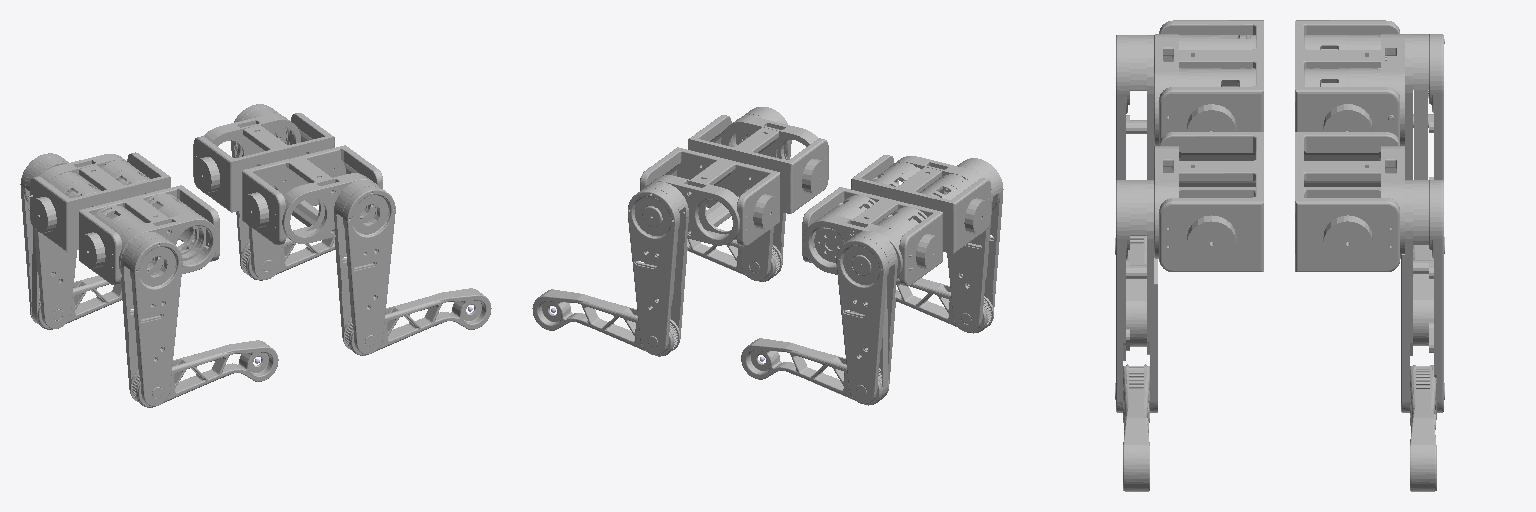
--- What the picture shows (computed from the rendered views, not written in the file) ---
Views: 3 orthographic renders of the robot side by side, from view 1: azimuth 30°, elevation 25°; view 2: azimuth 150°, elevation 25°; view 3: azimuth 270°, elevation 25°.
Model HotDog with 25 links and 24 joints (24 revolute), rooted at BODY_LINK, posed every joint at zero.
Visible links, largest first — view 1: RF_JIAN_LINK, RB_JIAN_LINK, RB_THIGH_LINK, RF_THIGH_LINK, LB_JIAN_LINK, LF_JIAN_LINK, LB_THIGH_LINK, RB_SHANK_LINK, RF_SHANK_LINK, LF_THIGH_LINK, LB_SHANK_LINK, LF_SHANK_LINK; view 2: LF_JIAN_LINK, LB_THIGH_LINK, LB_JIAN_LINK, LF_THIGH_LINK, RB_JIAN_LINK, RF_JIAN_LINK, RB_THIGH_LINK, LF_SHANK_LINK, LB_SHANK_LINK, RF_THIGH_LINK, RB_SHANK_LINK, RF_SHANK_LINK; view 3: RF_JIAN_LINK, LF_JIAN_LINK, RB_JIAN_LINK, LB_JIAN_LINK, LF_THIGH_LINK, RF_THIGH_LINK, LB_THIGH_LINK, RB_THIGH_LINK, RF_SHANK_LINK, LF_SHANK_LINK, RB_SHANK_LINK, LB_SHANK_LINK.
Boxes of the visible links, left/top/right/bottom form: RF_JIAN_LINK: left=242, top=145, right=382, bottom=244; RB_JIAN_LINK: left=79, top=185, right=219, bottom=284; RB_THIGH_LINK: left=121, top=232, right=182, bottom=406; RF_THIGH_LINK: left=334, top=180, right=395, bottom=354; LB_JIAN_LINK: left=28, top=152, right=170, bottom=252; LF_JIAN_LINK: left=193, top=113, right=334, bottom=212; LB_THIGH_LINK: left=20, top=153, right=96, bottom=328; RB_SHANK_LINK: left=129, top=340, right=278, bottom=407; RF_SHANK_LINK: left=342, top=288, right=491, bottom=355; LF_THIGH_LINK: left=231, top=104, right=286, bottom=279; LB_SHANK_LINK: left=30, top=275, right=121, bottom=329; LF_SHANK_LINK: left=240, top=227, right=334, bottom=280; LF_JIAN_LINK: left=640, top=147, right=779, bottom=246; LB_THIGH_LINK: left=813, top=231, right=897, bottom=403; LB_JIAN_LINK: left=802, top=187, right=942, bottom=286; LF_THIGH_LINK: left=628, top=182, right=688, bottom=354; RB_JIAN_LINK: left=851, top=155, right=990, bottom=253; RF_JIAN_LINK: left=688, top=115, right=828, bottom=213; RB_THIGH_LINK: left=947, top=158, right=1003, bottom=332; LF_SHANK_LINK: left=532, top=289, right=680, bottom=356; LB_SHANK_LINK: left=741, top=338, right=888, bottom=405; RF_THIGH_LINK: left=736, top=107, right=791, bottom=280; RB_SHANK_LINK: left=895, top=278, right=993, bottom=333; RF_SHANK_LINK: left=687, top=229, right=782, bottom=281; RF_JIAN_LINK: left=1154, top=132, right=1263, bottom=271; LF_JIAN_LINK: left=1295, top=132, right=1404, bottom=271; RB_JIAN_LINK: left=1154, top=20, right=1263, bottom=145; LB_JIAN_LINK: left=1295, top=20, right=1404, bottom=145; LF_THIGH_LINK: left=1401, top=180, right=1444, bottom=412; RF_THIGH_LINK: left=1115, top=180, right=1157, bottom=412; LB_THIGH_LINK: left=1405, top=34, right=1444, bottom=253; RB_THIGH_LINK: left=1115, top=35, right=1153, bottom=254; RF_SHANK_LINK: left=1123, top=364, right=1149, bottom=491; LF_SHANK_LINK: left=1410, top=365, right=1436, bottom=491; RB_SHANK_LINK: left=1126, top=236, right=1146, bottom=346; LB_SHANK_LINK: left=1413, top=245, right=1433, bottom=345.
Size in the robot's own frame: 0.4225 by 0.2325 by 0.1838 metres.
Meshes: 25 distinct files referenced, 22 mesh visuals loaded (22 binary STL); not drawn: 3 (reference not matched to a file when rendering).

robot.urdf — HotDog:
<?xml version="1.0" encoding="utf-8"?>
<!-- This URDF was automatically created by SolidWorks to URDF Exporter! Originally created by Stephen Brawner ([email redacted]) 
     Commit Version: 1.6.0-4-g7f85cfe  Build Version: 1.6.7995.38578
     For more information, please see http://wiki.ros.org/sw_urdf_exporter -->
<robot
  name="HotDog">
  <link
    name="BODY_LINK">
    <inertial>
      <origin
        xyz="-0.0371687442236052 0.00016322891231972 -5.50209374861353E-05"
        rpy="0 0 0" />
      <mass
        value="1.06660031766174" />
      <inertia
        ixx="0.00119304411179781"
        ixy="-1.49726624538115E-10"
        ixz="4.37319154600914E-06"
        iyy="0.0054466046795462"
        iyz="-6.71769991102411E-08"
        izz="0.00569315083713373" />
    </inertial>
    <visual>
      <origin
        xyz="0 0 0"
        rpy="0 0 0" />
      <geometry>
        <mesh
          filename="package://HotDog/meshes/BODY_LINK.STL" />
      </geometry>
      <material
        name="">
        <color
          rgba="0.752941176470588 0.752941176470588 0.752941176470588 1" />
      </material>
    </visual>
    <collision>
      <origin
        xyz="0 0 0"
        rpy="0 0 0" />
      <geometry>
        <mesh
          filename="package://HotDog/meshes/BODY_LINK.STL" />
      </geometry>
    </collision>
  </link>
  <link
    name="LF_JIAN_LINK">
    <inertial>
      <origin
        xyz="-0.000741533210672114 -4.7995835830289E-06 -0.028405263004785"
        rpy="0 0 0" />
      <mass
        value="0.164648707873323" />
      <inertia
        ixx="0.000363210273359673"
        ixy="-1.83547355492689E-08"
        ixz="-1.46953561317183E-07"
        iyy="0.0003706849708134"
        iyz="6.33178541948565E-09"
        izz="0.000108616132557141" />
    </inertial>
    <visual>
      <origin
        xyz="0 0 0"
        rpy="0 0 0" />
      <geometry>
        <mesh
          filename="package://HotDog/meshes/LF_JIAN_LINK.STL" />
      </geometry>
      <material
        name="">
        <color
          rgba="0.752941176470588 0.752941176470588 0.752941176470588 1" />
      </material>
    </visual>
    <collision>
      <origin
        xyz="0 0 0"
        rpy="0 0 0" />
      <geometry>
        <mesh
          filename="package://HotDog/meshes/LF_JIAN_LINK.STL" />
      </geometry>
    </collision>
  </link>
  <joint
    name="LF_JIAN_JOINT"
    type="revolute">
    <origin
      xyz="0.1199 0.04805 -0.001"
      rpy="1.5708 0 1.5708" />
    <parent
      link="BODY_LINK" />
    <child
      link="LF_JIAN_LINK" />
    <axis
      xyz="0 0 1" />
    <limit
      lower="-1.5708"
      upper="1.5708"
      effort="0"
      velocity="0" />
  </joint>
  <link
    name="LF_THIGH_LINK">
    <inertial>
      <origin
        xyz="0.0508525846899987 -0.00075850600525168 -5.73760741986035E-05"
        rpy="0 0 0" />
      <mass
        value="0.0986910738752765" />
      <inertia
        ixx="1.83065940672543E-05"
        ixy="2.05585256451938E-06"
        ixz="-3.32207876151063E-07"
        iyy="0.000188717504633026"
        iyz="-7.59277950745174E-08"
        izz="0.000205571153181477" />
    </inertial>
    <visual>
      <origin
        xyz="0 0 0"
        rpy="0 0 0" />
      <geometry>
        <mesh
          filename="package://HotDog/meshes/LF_THIGH_LINK.STL" />
      </geometry>
      <material
        name="">
        <color
          rgba="0.752941176470588 0.752941176470588 0.752941176470588 1" />
      </material>
    </visual>
    <collision>
      <origin
        xyz="0 0 0"
        rpy="0 0 0" />
      <geometry>
        <mesh
          filename="package://HotDog/meshes/LF_THIGH_LINK.STL" />
      </geometry>
    </collision>
  </link>
  <joint
    name="LF_THIGH_JOINT"
    type="revolute">
    <origin
      xyz="0.05305 0 0"
      rpy="-1.5708 0.023282 -1.5708" />
    <parent
      link="LF_JIAN_LINK" />
    <child
      link="LF_THIGH_LINK" />
    <axis
      xyz="0 0 -1" />
    <limit
      lower="-1.5708"
      upper="1.5708"
      effort="0"
      velocity="0" />
  </joint>
  <link
    name="LF_SHANK_LINK">
    <inertial>
      <origin
        xyz="0.0524852485214341 -0.0020157518410453 4.12966244767166E-06"
        rpy="0 0 0" />
      <mass
        value="0.0485389866008694" />
      <inertia
        ixx="7.1966174171715E-06"
        ixy="9.47458566096196E-07"
        ixz="1.93275477884366E-08"
        iyy="9.53297494158792E-05"
        iyz="8.07462630093549E-10"
        izz="9.98870067459658E-05" />
    </inertial>
    <visual>
      <origin
        xyz="0 0 0"
        rpy="0 0 0" />
      <geometry>
        <mesh
          filename="package://HotDog/meshes/LF_SHANK_LINK.STL" />
      </geometry>
      <material
        name="">
        <color
          rgba="0.752941176470588 0.752941176470588 0.752941176470588 1" />
      </material>
    </visual>
    <collision>
      <origin
        xyz="0 0 0"
        rpy="0 0 0" />
      <geometry>
        <mesh
          filename="package://HotDog/meshes/LF_SHANK_LINK.STL" />
      </geometry>
    </collision>
  </link>
  <joint
    name="LF_SHANK_JOINT"
    type="revolute">
    <origin
      xyz="0.13499 -0.0012933 0"
      rpy="0 0 -1.5941" />
    <parent
      link="LF_THIGH_LINK" />
    <child
      link="LF_SHANK_LINK" />
    <axis
      xyz="0 0 -1" />
    <limit
      lower="-1.5708"
      upper="1.5708"
      effort="0"
      velocity="0" />
  </joint>
  <link
    name="LF_R_LINK">
    <inertial>
      <origin
        xyz="-2.77555756156289E-17 0 0"
        rpy="0 0 0" />
      <mass
        value="6.54498469497874E-05" />
      <inertia
        ixx="1.63624617374468E-10"
        ixy="-6.76961594559568E-48"
        ixz="0"
        iyy="1.63624617374468E-10"
        iyz="5.68481213279604E-37"
        izz="1.63624617374468E-10" />
    </inertial>
    <visual>
      <origin
        xyz="0 0 0"
        rpy="0 0 0" />
      <geometry>
        <mesh
          filename="package://HotDog/meshes/LF_R_LINK.STL" />
      </geometry>
      <material
        name="">
        <color
          rgba="0.792156862745098 0.819607843137255 0.933333333333333 1" />
      </material>
    </visual>
    <collision>
      <origin
        xyz="0 0 0"
        rpy="0 0 0" />
      <geometry>
        <mesh
          filename="package://HotDog/meshes/LF_R_LINK.STL" />
      </geometry>
    </collision>
  </link>
  <joint
    name="LF_R_JOIN"
    type="revolute">
    <origin
      xyz="0.122 0 0"
      rpy="1.5708 0 0" />
    <parent
      link="LF_SHANK_LINK" />
    <child
      link="LF_R_LINK" />
    <axis
      xyz="0 0 -1" />
    <limit
      lower="-1.5708"
      upper="1.5708"
      effort="0"
      velocity="0" />
  </joint>
  <link
    name="LF_P_LINK">
    <inertial>
      <origin
        xyz="0 0 -2.77555756156289E-17"
        rpy="0 0 0" />
      <mass
        value="6.54498469497874E-05" />
      <inertia
        ixx="1.63624617374468E-10"
        ixy="0"
        ixz="0"
        iyy="1.63624617374468E-10"
        iyz="0"
        izz="1.63624617374468E-10" />
    </inertial>
    <visual>
      <origin
        xyz="0 0 0"
        rpy="0 0 0" />
      <geometry>
        <mesh
          filename="package://HotDog/meshes/LF_P_LINK.STL" />
      </geometry>
      <material
        name="">
        <color
          rgba="0.792156862745098 0.819607843137255 0.933333333333333 1" />
      </material>
    </visual>
    <collision>
      <origin
        xyz="0 0 0"
        rpy="0 0 0" />
      <geometry>
        <mesh
          filename="package://HotDog/meshes/LF_P_LINK.STL" />
      </geometry>
    </collision>
  </link>
  <joint
    name="LF_P_JOINT"
    type="revolute">
    <origin
      xyz="0 0 0"
      rpy="0 1.5708 0" />
    <parent
      link="LF_R_LINK" />
    <child
      link="LF_P_LINK" />
    <axis
      xyz="0 0 -1" />
    <limit
      lower="-1.5708"
      upper="1.5708"
      effort="0"
      velocity="0" />
  </joint>
  <link
    name="LF_Y_LINK">
    <inertial>
      <origin
        xyz="0 -2.77555756156289E-17 0"
        rpy="0 0 0" />
      <mass
        value="6.54498469497874E-05" />
      <inertia
        ixx="1.63624617374468E-10"
        ixy="0"
        ixz="0"
        iyy="1.63624617374468E-10"
        iyz="0"
        izz="1.63624617374468E-10" />
    </inertial>
    <visual>
      <origin
        xyz="0 0 0"
        rpy="0 0 0" />
      <geometry>
        <mesh
          filename="package://HotDog/meshes/LF_Y_LINK.STL" />
      </geometry>
      <material
        name="">
        <color
          rgba="0.792156862745098 0.819607843137255 0.933333333333333 1" />
      </material>
    </visual>
    <collision>
      <origin
        xyz="0 0 0"
        rpy="0 0 0" />
      <geometry>
        <mesh
          filename="package://HotDog/meshes/LF_Y_LINK.STL" />
      </geometry>
    </collision>
  </link>
  <joint
    name="LF_Y_JOINT"
    type="revolute">
    <origin
      xyz="0 0 0"
      rpy="1.5708 0 0" />
    <parent
      link="LF_P_LINK" />
    <child
      link="LF_Y_LINK" />
    <axis
      xyz="0 0 1" />
    <limit
      lower="-1.5708"
      upper="1.5708"
      effort="0"
      velocity="0" />
  </joint>
  <link
    name="LB_JIAN_LINK">
    <inertial>
      <origin
        xyz="0.00111242445505096 6.9888123392964E-05 -0.0282503390893783"
        rpy="0 0 0" />
      <mass
        value="0.326912693320869" />
      <inertia
        ixx="0.000431834496212363"
        ixy="2.03421652435572E-08"
        ixz="-1.91870500374397E-07"
        iyy="0.000412383474998457"
        iyz="-4.11327652877867E-09"
        izz="0.000148210210042104" />
    </inertial>
    <visual>
      <origin
        xyz="0 0 0"
        rpy="0 0 0" />
      <geometry>
        <mesh
          filename="package://HotDog/meshes/LB_JIAN_LINK.STL" />
      </geometry>
      <material
        name="">
        <color
          rgba="0.752941176470588 0.752941176470588 0.752941176470588 1" />
      </material>
    </visual>
    <collision>
      <origin
        xyz="0 0 0"
        rpy="0 0 0" />
      <geometry>
        <mesh
          filename="package://HotDog/meshes/LB_JIAN_LINK.STL" />
      </geometry>
    </collision>
  </link>
  <joint
    name="LB_JIAN_JOINT"
    type="revolute">
    <origin
      xyz="-0.1219 0.04805 -0.001"
      rpy="-1.5708 0 1.5708" />
    <parent
      link="BODY_LINK" />
    <child
      link="LB_JIAN_LINK" />
    <axis
      xyz="0 0 -1" />
    <limit
      lower="-1.5708"
      upper="1.5708"
      effort="0"
      velocity="0" />
  </joint>
  <link
    name="LB_THIGH_LINK">
    <inertial>
      <origin
        xyz="0.0434722231723628 -0.000195922727933742 -0.00150945945314165"
        rpy="0 0 0" />
      <mass
        value="0.126723876610191" />
      <inertia
        ixx="2.26464638283808E-05"
        ixy="8.7166109356304E-08"
        ixz="-3.30711530704509E-07"
        iyy="0.00021296049921749"
        iyz="-8.3920203329765E-08"
        izz="0.000231538395396995" />
    </inertial>
    <visual>
      <origin
        xyz="0 0 0"
        rpy="0 0 0" />
      <geometry>
        <mesh
          filename="package://HotDog/meshes/LB_THIGH_LINK.STL" />
      </geometry>
      <material
        name="">
        <color
          rgba="0.752941176470588 0.752941176470588 0.752941176470588 1" />
      </material>
    </visual>
    <collision>
      <origin
        xyz="0 0 0"
        rpy="0 0 0" />
      <geometry>
        <mesh
          filename="package://HotDog/meshes/LB_THIGH_LINK.STL" />
      </geometry>
    </collision>
  </link>
  <joint
    name="LB_THIGH_JOINT"
    type="revolute">
    <origin
      xyz="0.05305 -0.0022197 -0.0034125"
      rpy="1.5708 -0.013702 1.5708" />
    <parent
      link="LB_JIAN_LINK" />
    <child
      link="LB_THIGH_LINK" />
    <axis
      xyz="0 0 1" />
    <limit
      lower="-1.5708"
      upper="1.5708"
      effort="0"
      velocity="0" />
  </joint>
  <link
    name="LB_SHANK_LINK">
    <inertial>
      <origin
        xyz="0.052523902247848 -7.14126603541809E-05 4.13478116592647E-06"
        rpy="0 0 0" />
      <mass
        value="0.0485390257312316" />
      <inertia
        ixx="7.24730043817087E-06"
        ixy="-2.31551978302083E-06"
        ixz="1.92851628424292E-08"
        iyy="9.52790783422838E-05"
        iyz="1.52397597956579E-09"
        izz="9.98870153478349E-05" />
    </inertial>
    <visual>
      <origin
        xyz="0 0 0"
        rpy="0 0 0" />
      <geometry>
        <mesh
          filename="package://HotDog/meshes/LB_SHANK_LINK.STL" />
      </geometry>
      <material
        name="">
        <color
          rgba="0.752941176470588 0.752941176470588 0.752941176470588 1" />
      </material>
    </visual>
    <collision>
      <origin
        xyz="0 0 0"
        rpy="0 0 0" />
      <geometry>
        <mesh
          filename="package://HotDog/meshes/LB_SHANK_LINK.STL" />
      </geometry>
    </collision>
  </link>
  <joint
    name="LB_SHANK_JOINT"
    type="revolute">
    <origin
      xyz="0.135 0 0"
      rpy="0 0 -1.6215" />
    <parent
      link="LB_THIGH_LINK" />
    <child
      link="LB_SHANK_LINK" />
    <axis
      xyz="0 0 -1" />
    <limit
      lower="-1.5708"
      upper="1.5708"
      effort="0"
      velocity="0" />
  </joint>
  <link
    name="LB_R_LINK">
    <inertial>
      <origin
        xyz="-1.73472347597681E-18 0 0"
        rpy="0 0 0" />
      <mass
        value="6.54498469497874E-05" />
      <inertia
        ixx="1.63624617374468E-10"
        ixy="-1.62941245724989E-43"
        ixz="0"
        iyy="1.63624617374468E-10"
        iyz="0"
        izz="1.63624617374468E-10" />
    </inertial>
    <visual>
      <origin
        xyz="0 0 0"
        rpy="0 0 0" />
      <geometry>
        <mesh
          filename="package://HotDog/meshes/LB_R_LINK.STL" />
      </geometry>
      <material
        name="">
        <color
          rgba="0.792156862745098 0.819607843137255 0.933333333333333 1" />
      </material>
    </visual>
    <collision>
      <origin
        xyz="0 0 0"
        rpy="0 0 0" />
      <geometry>
        <mesh
          filename="package://HotDog/meshes/LB_R_LINK.STL" />
      </geometry>
    </collision>
  </link>
  <joint
    name="LB_R_JOINT"
    type="revolute">
    <origin
      xyz="0.12192 0.0045163 0"
      rpy="1.5708 0 0.037028" />
    <parent
      link="LB_SHANK_LINK" />
    <child
      link="LB_R_LINK" />
    <axis
      xyz="0 0 -1" />
    <limit
      lower="-1.5708"
      upper="1.5708"
      effort="0"
      velocity="0" />
  </joint>
  <link
    name="LB_P_LINK">
    <inertial>
      <origin
        xyz="0 0 -1.73472347597681E-18"
        rpy="0 0 0" />
      <mass
        value="6.54498469497874E-05" />
      <inertia
        ixx="1.63624617374468E-10"
        ixy="0"
        ixz="0"
        iyy="1.63624617374468E-10"
        iyz="-1.62941245724989E-43"
        izz="1.63624617374468E-10" />
    </inertial>
    <visual>
      <origin
        xyz="0 0 0"
        rpy="0 0 0" />
      <geometry>
        <mesh
          filename="package://HotDog/meshes/LB_P_LINK.STL" />
      </geometry>
      <material
        name="">
        <color
          rgba="0.792156862745098 0.819607843137255 0.933333333333333 1" />
      </material>
    </visual>
    <collision>
      <origin
        xyz="0 0 0"
        rpy="0 0 0" />
      <geometry>
        <mesh
          filename="package://HotDog/meshes/LB_P_LINK.STL" />
      </geometry>
    </collision>
  </link>
  <joint
    name="LB_P_JOINT"
    type="revolute">
    <origin
      xyz="0 0 0"
      rpy="0 1.5708 0" />
    <parent
      link="LB_R_LINK" />
    <child
      link="LB_P_LINK" />
    <axis
      xyz="0 0 -1" />
    <limit
      lower="-1.5708"
      upper="1.5708"
      effort="0"
      velocity="0" />
  </joint>
  <link
    name="LB_Y_LINK">
    <inertial>
      <origin
        xyz="0 -1.73472347597681E-18 0"
        rpy="0 0 0" />
      <mass
        value="6.54498469497874E-05" />
      <inertia
        ixx="1.63624617374468E-10"
        ixy="0"
        ixz="0"
        iyy="1.63624617374468E-10"
        iyz="1.62941245724989E-43"
        izz="1.63624617374468E-10" />
    </inertial>
    <visual>
      <origin
        xyz="0 0 0"
        rpy="0 0 0" />
      <geometry>
        <mesh
          filename="package://HotDog/meshes/LB_Y_LINK.STL" />
      </geometry>
      <material
        name="">
        <color
          rgba="0.792156862745098 0.819607843137255 0.933333333333333 1" />
      </material>
    </visual>
    <collision>
      <origin
        xyz="0 0 0"
        rpy="0 0 0" />
      <geometry>
        <mesh
          filename="package://HotDog/meshes/LB_Y_LINK.STL" />
      </geometry>
    </collision>
  </link>
  <joint
    name="LB_Y_JOINT"
    type="revolute">
    <origin
      xyz="0 0 0"
      rpy="1.5708 0 0" />
    <parent
      link="LB_P_LINK" />
    <child
      link="LB_Y_LINK" />
    <axis
      xyz="0 0 1" />
    <limit
      lower="-1.5708"
      upper="1.5708"
      effort="0"
      velocity="0" />
  </joint>
  <link
    name="RF_JIAN_LINK">
    <inertial>
      <origin
        xyz="-0.000741503529284405 9.43071581690798E-06 -0.0276445307185166"
        rpy="0 0 0" />
      <mass
        value="0.164648707873323" />
      <inertia
        ixx="0.000363212926897092"
        ixy="1.42267921416376E-07"
        ixz="1.96247015673297E-07"
        iyy="0.000370682317275983"
        iyz="2.06308227531926E-09"
        izz="0.00010861613255714" />
    </inertial>
    <visual>
      <origin
        xyz="0 0 0"
        rpy="0 0 0" />
      <geometry>
        <mesh
          filename="package://HotDog/meshes/RF_JIAN_LINK.STL" />
      </geometry>
      <material
        name="">
        <color
          rgba="0.752941176470588 0.752941176470588 0.752941176470588 1" />
      </material>
    </visual>
    <collision>
      <origin
        xyz="0 0 0"
        rpy="0 0 0" />
      <geometry>
        <mesh
          filename="package://HotDog/meshes/RF_JIAN_LINK.STL" />
      </geometry>
    </collision>
  </link>
  <joint
    name="RF_JIAN_JOINT"
    type="revolute">
    <origin
      xyz="0.1199 -0.04795 -0.001"
      rpy="-1.5708 0.021756 -1.5708" />
    <parent
      link="BODY_LINK" />
    <child
      link="RF_JIAN_LINK" />
    <axis
      xyz="0 0 1" />
    <limit
      lower="-1.5708"
      upper="1.5708"
      effort="0"
      velocity="0" />
  </joint>
  <link
    name="RF_THIGH_LINK">
    <inertial>
      <origin
        xyz="0.0512196578451125 0.00078015605506318 0.000191818707834981"
        rpy="0 0 0" />
      <mass
        value="0.0976231637562044" />
      <inertia
        ixx="1.83918020054249E-05"
        ixy="-2.51221162802734E-06"
        ixz="3.32557226527169E-07"
        iyy="0.000188568607420342"
        iyz="-7.43826735038509E-08"
        izz="0.000205508953934319" />
    </inertial>
    <visual>
      <origin
        xyz="0 0 0"
        rpy="0 0 0" />
      <geometry>
        <mesh
          filename="package://HotDog/meshes/RF_THIGH_LINK.STL" />
      </geometry>
      <material
        name="">
        <color
          rgba="0.752941176470588 0.752941176470588 0.752941176470588 1" />
      </material>
    </visual>
    <collision>
      <origin
        xyz="0 0 0"
        rpy="0 0 0" />
      <geometry>
        <mesh
          filename="package://HotDog/meshes/RF_THIGH_LINK.STL" />
      </geometry>
    </collision>
  </link>
  <joint
    name="RF_THIGH_JOINT"
    type="revolute">
    <origin
      xyz="0.053037 -0.001 0"
      rpy="-1.5708 -0.00052673 1.549" />
    <parent
      link="RF_JIAN_LINK" />
    <child
      link="RF_THIGH_LINK" />
    <axis
      xyz="0.021754 0 -0.99976" />
    <limit
      lower="-1.5708"
      upper="1.5708"
      effort="0"
      velocity="0" />
  </joint>
  <link
    name="RF_SHANK_LINK">
    <inertial>
      <origin
        xyz="0.0524852553396524 -0.00201575621178718 4.13470284280071E-06"
        rpy="0 0 0" />
      <mass
        value="0.0485390235838856" />
      <inertia
        ixx="7.19662087968634E-06"
        ixy="9.47458060345142E-07"
        ixz="1.93286341128723E-08"
        iyy="9.53297551675703E-05"
        iyz="8.08952802420755E-10"
        izz="9.98870127222629E-05" />
    </inertial>
    <visual>
      <origin
        xyz="0 0 0"
        rpy="0 0 0" />
      <geometry>
        <mesh
          filename="package://HotDog/meshes/RF_SHANK_LINK.STL" />
      </geometry>
      <material
        name="">
        <color
          rgba="0.752941176470588 0.752941176470588 0.752941176470588 1" />
      </material>
    </visual>
    <collision>
      <origin
        xyz="0 0 0"
        rpy="0 0 0" />
      <geometry>
        <mesh
          filename="package://HotDog/meshes/RF_SHANK_LINK.STL" />
      </geometry>
    </collision>
  </link>
  <joint
    name="RF_SHANK_JOINT"
    type="revolute">
    <origin
      xyz="0.13483 0.0019208 0"
      rpy="0 0 -1.5703" />
    <parent
      link="RF_THIGH_LINK" />
    <child
      link="RF_SHANK_LINK" />
    <axis
      xyz="0 0 -1" />
    <limit
      lower="-1.5708"
      upper="1.5708"
      effort="0"
      velocity="0" />
  </joint>
  <link
    name="RF_R_LINK">
    <inertial>
      <origin
        xyz="-2.77555756156289E-17 2.77555756156289E-17 -2.77555756156289E-17"
        rpy="0 0 0" />
      <mass
        value="6.54498469497874E-05" />
      <inertia
        ixx="1.63624617374468E-10"
        ixy="0"
        ixz="0"
        iyy="1.63624617374468E-10"
        iyz="0"
        izz="1.63624617374468E-10" />
    </inertial>
    <visual>
      <origin
        xyz="0 0 0"
        rpy="0 0 0" />
      <geometry>
        <mesh
          filename="package://HotDog/meshes/RF_R_LINK.STL" />
      </geometry>
      <material
        name="">
        <color
          rgba="0.792156862745098 0.819607843137255 0.933333333333333 1" />
      </material>
    </visual>
    <collision>
      <origin
        xyz="0 0 0"
        rpy="0 0 0" />
      <geometry>
        <mesh
          filename="package://HotDog/meshes/RF_R_LINK.STL" />
      </geometry>
    </collision>
  </link>
  <joint
    name="RF_R_JOINT"
    type="revolute">
    <origin
      xyz="0.122 0 0"
      rpy="1.5708 0 0" />
    <parent
      link="RF_SHANK_LINK" />
    <child
      link="RF_R_LINK" />
    <axis
      xyz="0 0 -1" />
    <limit
      lower="-1.5708"
      upper="1.5708"
      effort="0"
      velocity="0" />
  </joint>
  <link
    name="RF_P_LINK">
    <inertial>
      <origin
        xyz="0 1.38777878078145E-17 0"
        rpy="0 0 0" />
      <mass
        value="6.54498469497874E-05" />
      <inertia
        ixx="1.63624617374468E-10"
        ixy="0"
        ixz="0"
        iyy="1.63624617374468E-10"
        iyz="0"
        izz="1.63624617374468E-10" />
    </inertial>
    <visual>
      <origin
        xyz="0 0 0"
        rpy="0 0 0" />
      <geometry>
        <mesh
          filename="package://HotDog/meshes/RF_P_LINK.STL" />
      </geometry>
      <material
        name="">
        <color
          rgba="0.792156862745098 0.819607843137255 0.933333333333333 1" />
      </material>
    </visual>
    <collision>
      <origin
        xyz="0 0 0"
        rpy="0 0 0" />
      <geometry>
        <mesh
          filename="package://HotDog/meshes/RF_P_LINK.STL" />
      </geometry>
    </collision>
  </link>
  <joint
    name="RF_P_JOINT"
    type="revolute">
    <origin
      xyz="0 0 0"
      rpy="0 1.5708 0" />
    <parent
      link="RF_R_LINK" />
    <child
      link="RF_P_LINK" />
    <axis
      xyz="0 0 -1" />
    <limit
      lower="-1.5708"
      upper="1.5708"
      effort="0"
      velocity="0" />
  </joint>
  <link
    name="RF_Y_LINK">
    <inertial>
      <origin
        xyz="0 0 -1.38777878078145E-17"
        rpy="0 0 0" />
      <mass
        value="6.54498469497874E-05" />
      <inertia
        ixx="1.63624617374468E-10"
        ixy="0"
        ixz="0"
        iyy="1.63624617374468E-10"
        iyz="0"
        izz="1.63624617374468E-10" />
    </inertial>
    <visual>
      <origin
        xyz="0 0 0"
        rpy="0 0 0" />
      <geometry>
        <mesh
          filename="package://HotDog/meshes/RF_Y_LINK.STL" />
      </geometry>
      <material
        name="">
        <color
          rgba="0.792156862745098 0.819607843137255 0.933333333333333 1" />
      </material>
    </visual>
    <collision>
      <origin
        xyz="0 0 0"
        rpy="0 0 0" />
      <geometry>
        <mesh
          filename="package://HotDog/meshes/RF_Y_LINK.STL" />
      </geometry>
    </collision>
  </link>
  <joint
    name="RF_Y_JOINT"
    type="revolute">
    <origin
      xyz="0 0 0"
      rpy="1.5708 0 0" />
    <parent
      link="RF_P_LINK" />
    <child
      link="RF_Y_LINK" />
    <axis
      xyz="0 0 1" />
    <limit
      lower="-1.5708"
      upper="1.5708"
      effort="0"
      velocity="0" />
  </joint>
  <link
    name="RB_JIAN_LINK">
    <inertial>
      <origin
        xyz="-0.00133971122808706 4.14695766518826E-06 -0.0282268203441403"
        rpy="0 0 0" />
      <mass
        value="0.258003610332943" />
      <inertia
        ixx="0.000416230636705904"
        ixy="2.04095244653148E-08"
        ixz="-1.96174992192531E-07"
        iyy="0.000402490330372077"
        iyz="6.41537642602843E-09"
        izz="0.000140421858800084" />
    </inertial>
    <visual>
      <origin
        xyz="0 0 0"
        rpy="0 0 0" />
      <geometry>
        <mesh
          filename="package://HotDog/meshes/RB_JIAN_LINK.STL" />
      </geometry>
      <material
        name="">
        <color
          rgba="0.752941176470588 0.752941176470588 0.752941176470588 1" />
      </material>
    </visual>
    <collision>
      <origin
        xyz="0 0 0"
        rpy="0 0 0" />
      <geometry>
        <mesh
          filename="package://HotDog/meshes/RB_JIAN_LINK.STL" />
      </geometry>
    </collision>
  </link>
  <joint
    name="RB_JIAN_JOINT"
    type="revolute">
    <origin
      xyz="-0.1219 -0.04795 -0.001"
      rpy="1.5708 0 -1.5708" />
    <parent
      link="BODY_LINK" />
    <child
      link="RB_JIAN_LINK" />
    <axis
      xyz="0 0 1" />
    <limit
      lower="-1.5708"
      upper="1.5708"
      effort="0"
      velocity="0" />
  </joint>
  <link
    name="RB_THIGH_LINK">
    <inertial>
      <origin
        xyz="0.0513762577245795 0.000585803387600503 0.000195169976736645"
        rpy="0 0 0" />
      <mass
        value="0.0976231637562046" />
      <inertia
        ixx="1.83752301290234E-05"
        ixy="-1.86836389688719E-06"
        ixz="3.3227345653552E-07"
        iyy="0.000188585179296743"
        iyz="-7.56402083215947E-08"
        izz="0.000205508953934319" />
    </inertial>
    <visual>
      <origin
        xyz="0 0 0"
        rpy="0 0 0" />
      <geometry>
        <mesh
          filename="package://HotDog/meshes/RB_THIGH_LINK.STL" />
      </geometry>
      <material
        name="">
        <color
          rgba="0.752941176470588 0.752941176470588 0.752941176470588 1" />
      </material>
    </visual>
    <collision>
      <origin
        xyz="0 0 0"
        rpy="0 0 0" />
      <geometry>
        <mesh
          filename="package://HotDog/meshes/RB_THIGH_LINK.STL" />
      </geometry>
    </collision>
  </link>
  <joint
    name="RB_THIGH_JOINT"
    type="revolute">
    <origin
      xyz="0.05305 0 0"
      rpy="1.5708 -0.0032563 -1.5708" />
    <parent
      link="RB_JIAN_LINK" />
    <child
      link="RB_THIGH_LINK" />
    <axis
      xyz="0 0 -1" />
    <limit
      lower="-1.5708"
      upper="1.5708"
      effort="0"
      velocity="0" />
  </joint>
  <link
    name="RB_SHANK_LINK">
    <inertial>
      <origin
        xyz="0.0524784105682791 -0.00218665110929128 4.13396498318008E-06"
        rpy="0 0 0" />
      <mass
        value="0.0485390193489655" />
      <inertia
        ixx="7.20372534770678E-06"
        ixy="1.23442157049636E-06"
        ixz="1.93314144553433E-08"
        iyy="9.53226506117469E-05"
        iyz="7.45840146871638E-10"
        izz="9.98870131478521E-05" />
    </inertial>
    <visual>
      <origin
        xyz="0 0 0"
        rpy="0 0 0" />
      <geometry>
        <mesh
          filename="package://HotDog/meshes/RB_SHANK_LINK.STL" />
      </geometry>
      <material
        name="">
        <color
          rgba="0.752941176470588 0.752941176470588 0.752941176470588 1" />
      </material>
    </visual>
    <collision>
      <origin
        xyz="0 0 0"
        rpy="0 0 0" />
      <geometry>
        <mesh
          filename="package://HotDog/meshes/RB_SHANK_LINK.STL" />
      </geometry>
    </collision>
  </link>
  <joint
    name="RB_SHANK_JOINT"
    type="revolute">
    <origin
      xyz="0.13499 0.0014101 0"
      rpy="0 0 -1.5708" />
    <parent
      link="RB_THIGH_LINK" />
    <child
      link="RB_SHANK_LINK" />
    <axis
      xyz="0 0 -1" />
    <limit
      lower="-1.5708"
      upper="1.5708"
      effort="0"
      velocity="0" />
  </joint>
  <link
    name="RB_R_LINK">
    <inertial>
      <origin
        xyz="3.90312782094782E-18 0 -2.77555756156289E-17"
        rpy="0 0 0" />
      <mass
        value="6.54498469497874E-05" />
      <inertia
        ixx="1.63624617374468E-10"
        ixy="0"
        ixz="0"
        iyy="1.63624617374468E-10"
        iyz="0"
        izz="1.63624617374468E-10" />
    </inertial>
    <visual>
      <origin
        xyz="0 0 0"
        rpy="0 0 0" />
      <geometry>
        <mesh
          filename="package://HotDog/meshes/RB_R_LINK.STL" />
      </geometry>
      <material
        name="">
        <color
          rgba="0.792156862745098 0.819607843137255 0.933333333333333 1" />
      </material>
    </visual>
    <collision>
      <origin
        xyz="0 0 0"
        rpy="0 0 0" />
      <geometry>
        <mesh
          filename="package://HotDog/meshes/RB_R_LINK.STL" />
      </geometry>
    </collision>
  </link>
  <joint
    name="RB_R_JOINT"
    type="revolute">
    <origin
      xyz="0.122 -0.00039727 0"
      rpy="1.5708 0 -0.0032563" />
    <parent
      link="RB_SHANK_LINK" />
    <child
      link="RB_R_LINK" />
    <axis
      xyz="0 0 -1" />
    <limit
      lower="-1.5708"
      upper="1.5708"
      effort="0"
      velocity="0" />
  </joint>
  <link
    name="RB_P_LINK">
    <inertial>
      <origin
        xyz="2.77555756156289E-17 0 3.90312782094782E-18"
        rpy="0 0 0" />
      <mass
        value="6.54498469497874E-05" />
      <inertia
        ixx="1.63624617374468E-10"
        ixy="0"
        ixz="0"
        iyy="1.63624617374468E-10"
        iyz="0"
        izz="1.63624617374468E-10" />
    </inertial>
    <visual>
      <origin
        xyz="0 0 0"
        rpy="0 0 0" />
      <geometry>
        <mesh
          filename="package://HotDog/meshes/RB_P_LINK.STL" />
      </geometry>
      <material
        name="">
        <color
          rgba="0.792156862745098 0.819607843137255 0.933333333333333 1" />
      </material>
    </visual>
    <collision>
      <origin
        xyz="0 0 0"
        rpy="0 0 0" />
      <geometry>
        <mesh
          filename="package://HotDog/meshes/RB_P_LINK.STL" />
      </geometry>
    </collision>
  </link>
  <joint
    name="RB_P_JOINT"
    type="revolute">
    <origin
      xyz="0 0 0"
      rpy="0 1.5708 0" />
    <parent
      link="RB_R_LINK" />
    <child
      link="RB_P_LINK" />
    <axis
      xyz="0 0 -1" />
    <limit
      lower="-1.5708"
      upper="1.5708"
      effort="0"
      velocity="0" />
  </joint>
  <link
    name="RB_Y_LINK">
    <inertial>
      <origin
        xyz="2.77555756156289E-17 3.90312782094782E-18 0"
        rpy="0 0 0" />
      <mass
        value="6.54498469497874E-05" />
      <inertia
        ixx="1.63624617374468E-10"
        ixy="0"
        ixz="0"
        iyy="1.63624617374468E-10"
        iyz="0"
        izz="1.63624617374468E-10" />
    </inertial>
    <visual>
      <origin
        xyz="0 0 0"
        rpy="0 0 0" />
      <geometry>
        <mesh
          filename="package://HotDog/meshes/RB_Y_LINK.STL" />
      </geometry>
      <material
        name="">
        <color
          rgba="0.792156862745098 0.819607843137255 0.933333333333333 1" />
      </material>
    </visual>
    <collision>
      <origin
        xyz="0 0 0"
        rpy="0 0 0" />
      <geometry>
        <mesh
          filename="package://HotDog/meshes/RB_Y_LINK.STL" />
      </geometry>
    </collision>
  </link>
  <joint
    name="RB_Y_JOINT"
    type="revolute">
    <origin
      xyz="0 0 0"
      rpy="1.5708 0 0" />
    <parent
      link="RB_P_LINK" />
    <child
      link="RB_Y_LINK" />
    <axis
      xyz="0 0 1" />
    <limit
      lower="-1.5708"
      upper="1.5708"
      effort="0"
      velocity="0" />
  </joint>
</robot>
